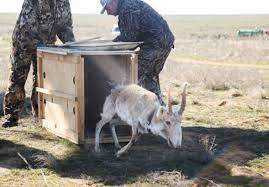saiga: (92, 80, 196, 164)
